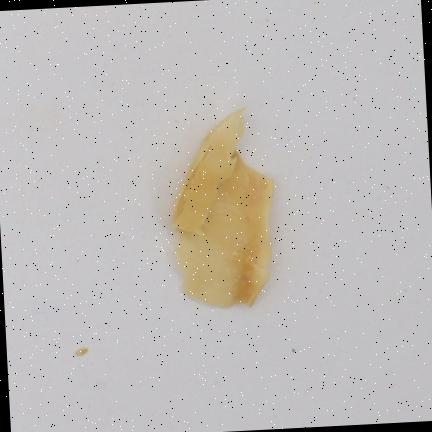parchment: (174, 108, 273, 305)
